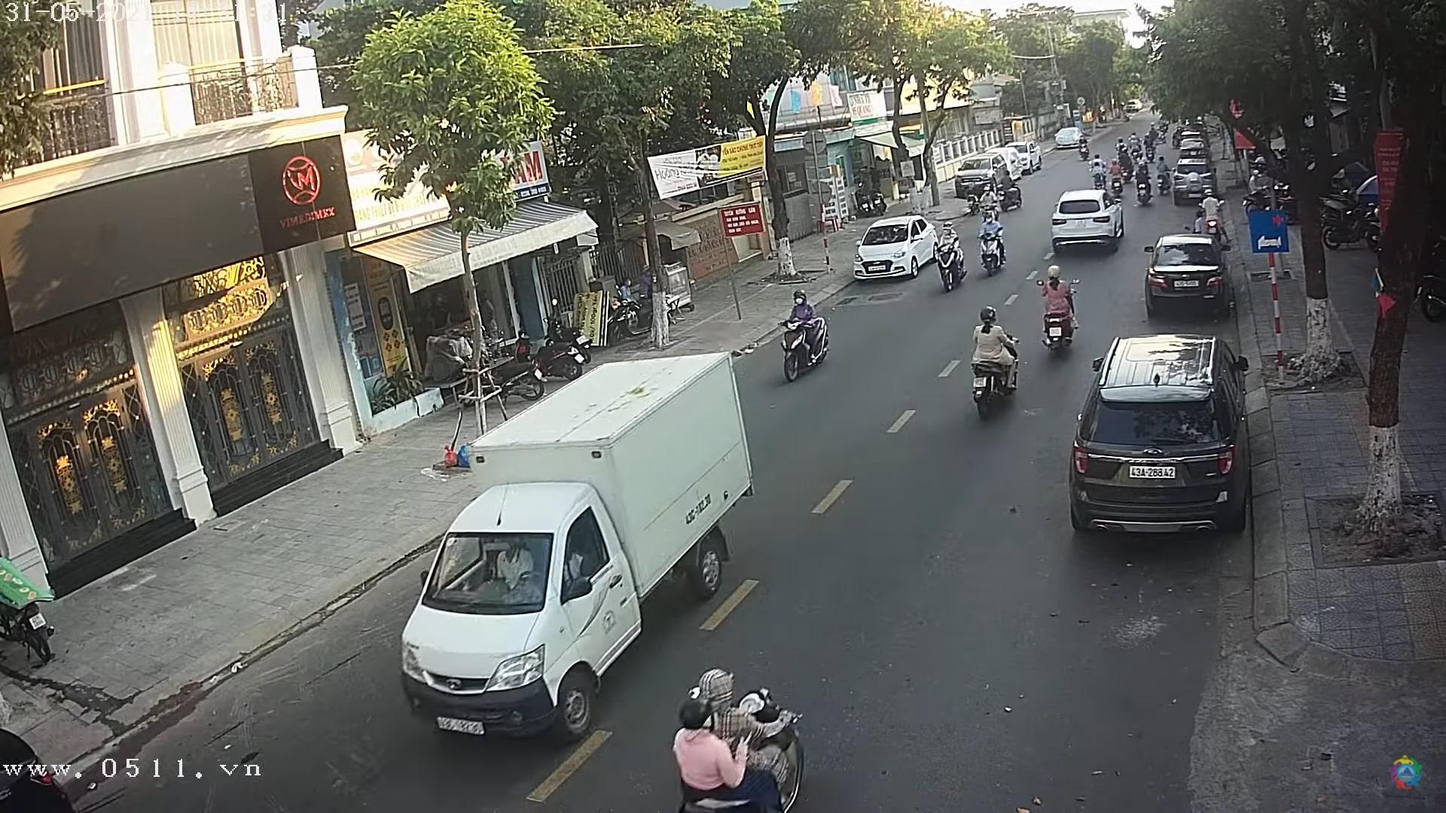car: (851, 213, 942, 283)
motorbike: (780, 316, 830, 390), (936, 232, 968, 294), (980, 224, 1009, 279)
truck: (395, 347, 763, 737)
